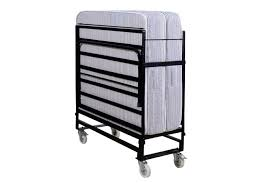bed-matress: (71, 8, 190, 134)
